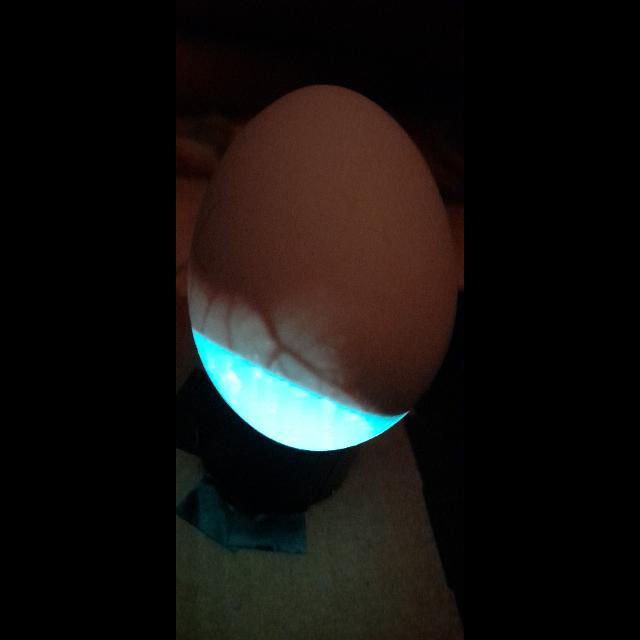Fertile: (191, 79, 464, 451)
